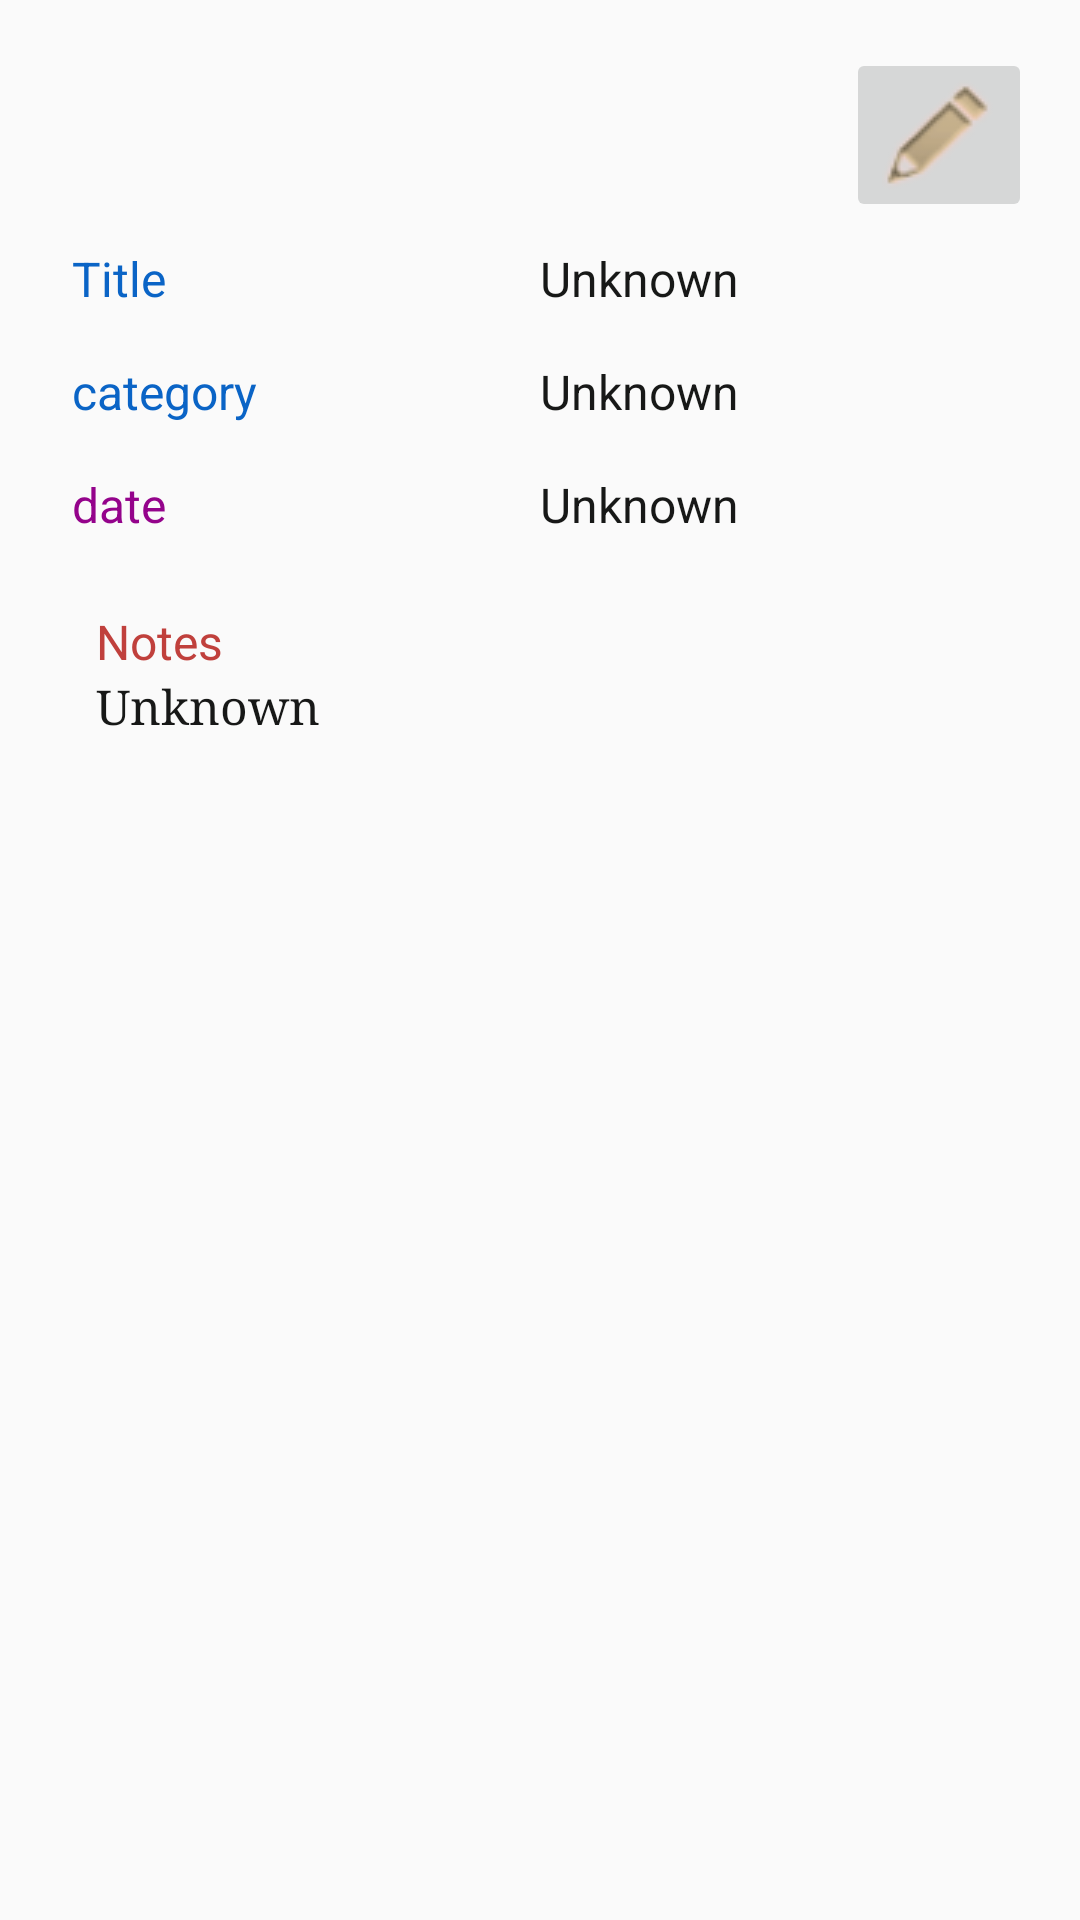

Point at icon controls on the screen. Image size 1080 x 1920, points as (x,y).
edit: (939,135)
